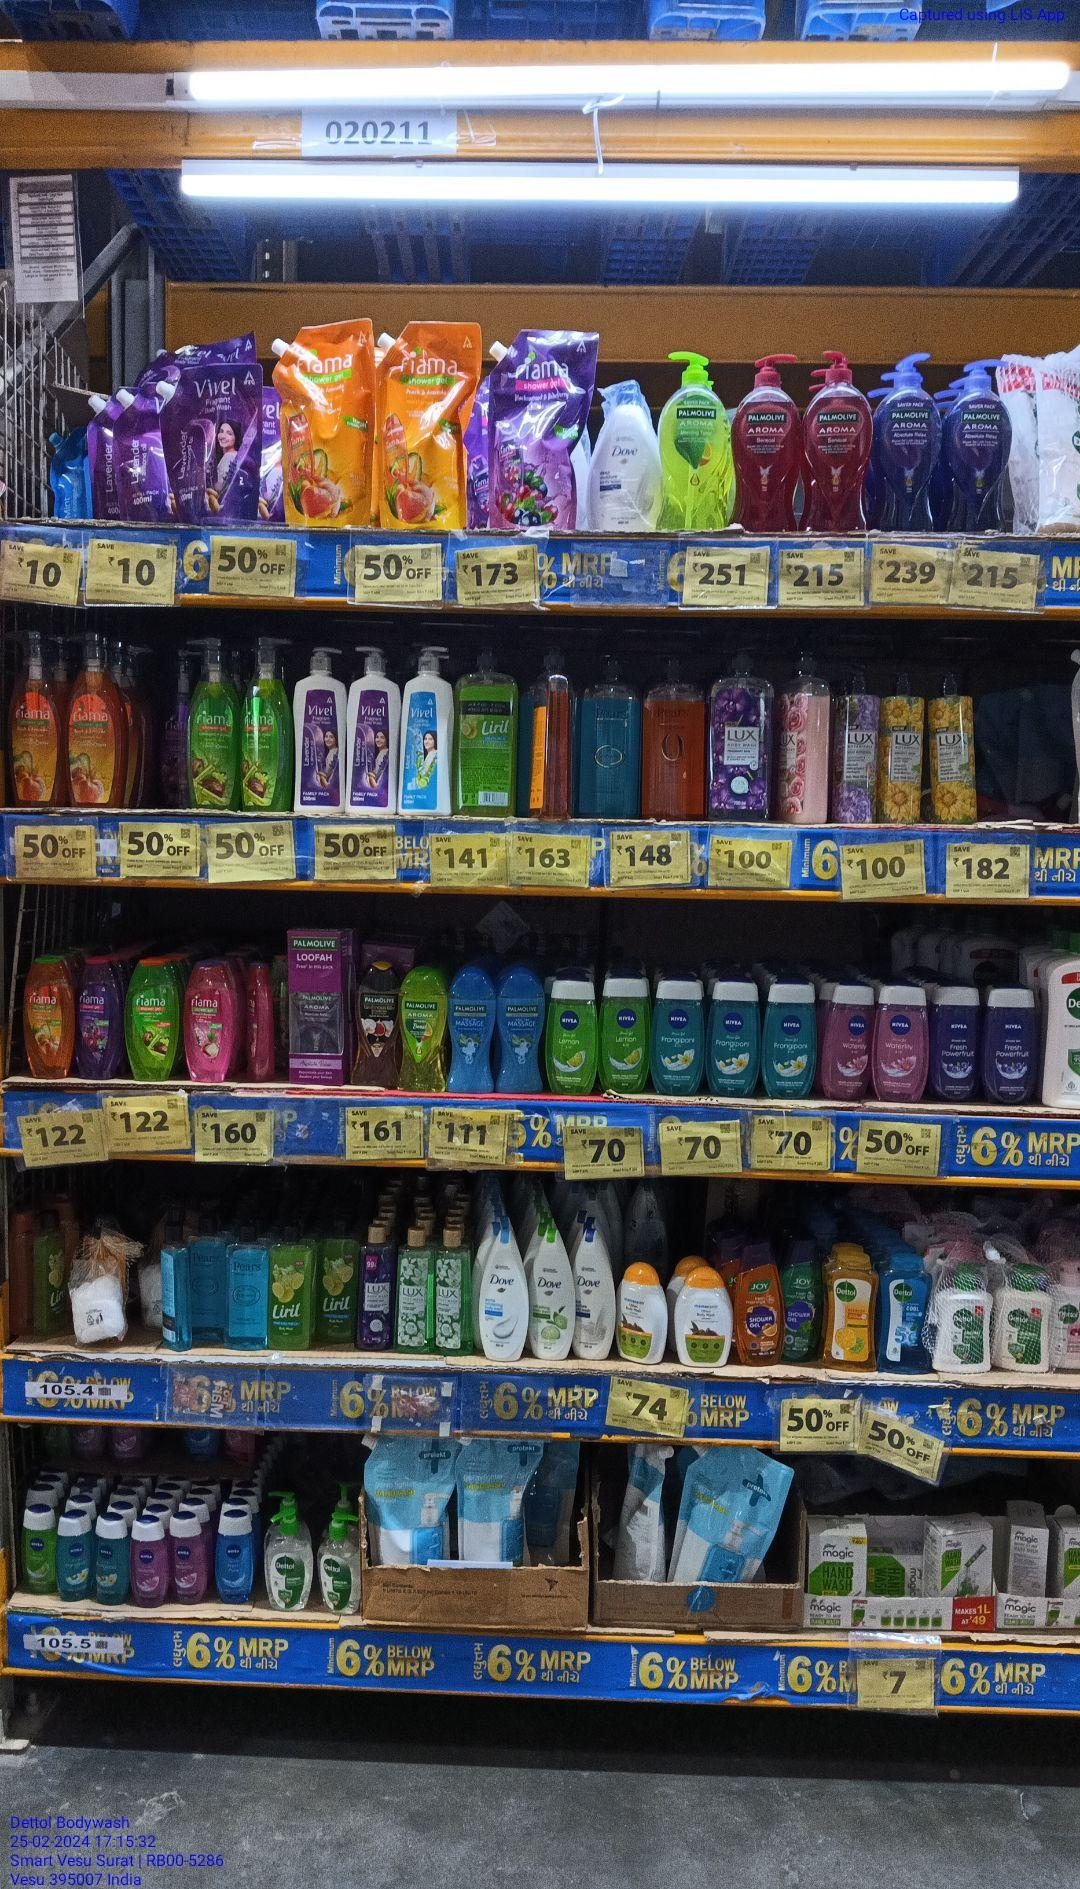Dettol_Bodywash_Cool: (887, 1258, 933, 1370)
Dettol_Bodywash_Refresh: (831, 1256, 879, 1370)
Dove_Deep_Moisture_Body_Wash_250ML: (578, 1226, 615, 1358)
Dove_Gentle_Exfoliating_Body_Wash_250ML: (478, 1225, 526, 1361)
Dove_Refreshing_Body_Wash_250ML: (530, 1226, 576, 1361)
Fiama_Shower_Gel_Lemongrass_and_Jojoba_250ML: (129, 957, 179, 1079)
Fiama_Shower_Gel_Patchouli_and_Macadamia_250ML: (184, 961, 231, 1082)
Fiama_Shower_Gel_Peach_and_Avocado_250ML: (25, 957, 74, 1082)
Joy_Shower_Gel_Mandarin_and_Lemongrass_250ML: (737, 1240, 784, 1366)
Joy_Shower_Gel_Mint_and_Eucalyptus_250ML: (784, 1238, 826, 1364)
Liril_Lime_and_Tea_Tree_Oil_Body_Wash_250ML: (270, 1226, 314, 1351), (318, 1223, 356, 1344)
Lux_Black_Orchid_Scent_and_Juniper_Oil_Body_Wash_245ML: (360, 1225, 392, 1351)
Lux_Body_Wash_Skin_Detox_Freesia_Scent_and_Alove_Vera_245ML: (399, 1229, 432, 1352), (436, 1230, 469, 1356)
Nivea_Shower_Gel_Frangipani_and_Oil_250ML: (765, 982, 816, 1101), (657, 981, 706, 1096), (711, 981, 759, 1095)
Nivea_Shower_Gel_Fresh_Powerfruit_250ML: (989, 987, 1041, 1103), (940, 986, 979, 1101)
Nivea_Shower_Gel_Lemon_and_Oil_250ML: (601, 977, 648, 1091), (550, 977, 595, 1098)
Nivea_Shower_Gel_Waterlily_and_Oil_250ML: (880, 986, 927, 1103), (827, 983, 874, 1099)
Palmolive_Aroma_Moments_Feel_The_Massage_Shower_Gel_250ML: (498, 972, 545, 1092), (449, 968, 493, 1094)
Palmolive_Aroma_Morning_Tonic_Shower_Gel_250ML: (405, 968, 447, 1091)
Palmolive_Luminous_Oils_With_White_Orchid_Shower_Gel_250ML: (353, 964, 402, 1087)
Pears_Pure_Glycerin_and_Mint_Extracts_Body_Wash_250ML: (226, 1226, 267, 1349)
